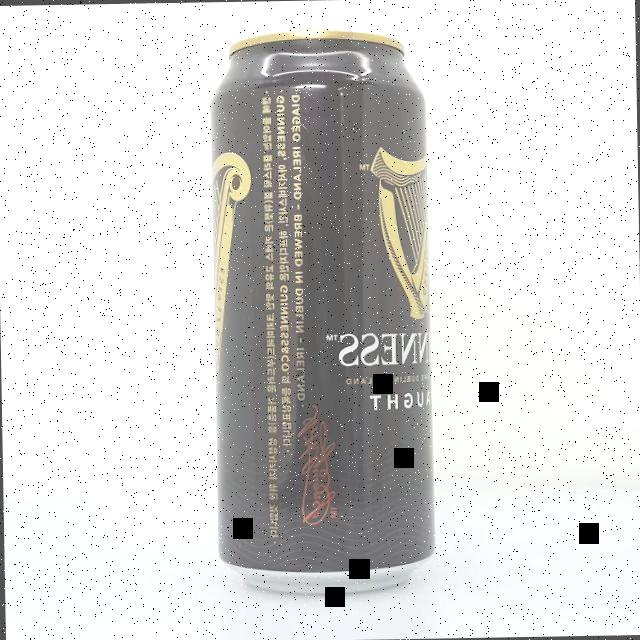can: (208, 28, 436, 596)
